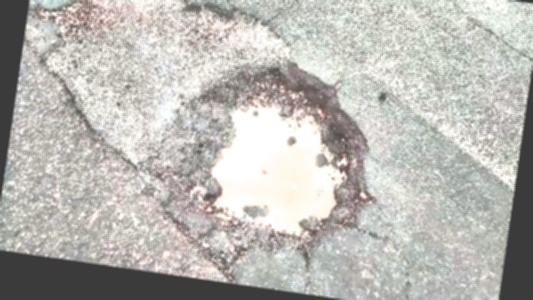pothole: (176, 45, 389, 263)
